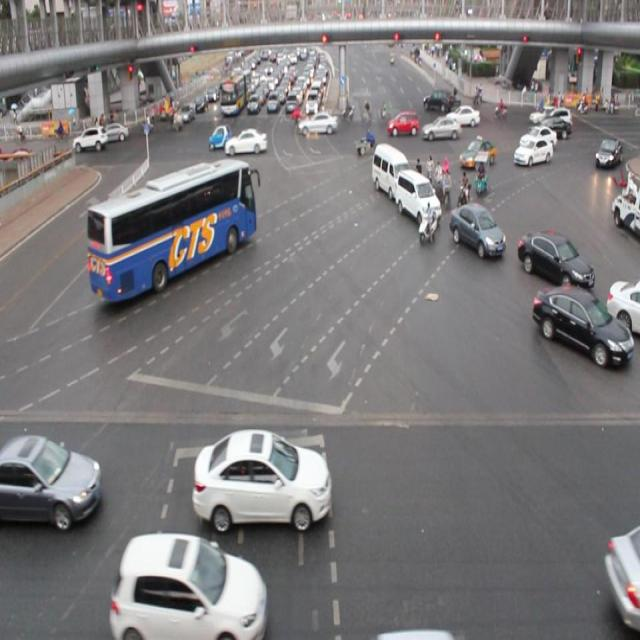car: (111, 528, 265, 640), (192, 432, 329, 530), (1, 424, 102, 532), (532, 282, 632, 372), (516, 224, 593, 289), (600, 520, 640, 623), (447, 194, 507, 259), (602, 268, 640, 336), (225, 127, 269, 155), (513, 136, 552, 167), (459, 138, 494, 167), (421, 115, 461, 139), (518, 122, 554, 148), (387, 110, 419, 135)
truck: (395, 165, 439, 226), (371, 139, 407, 198)
van: (87, 160, 256, 306)
